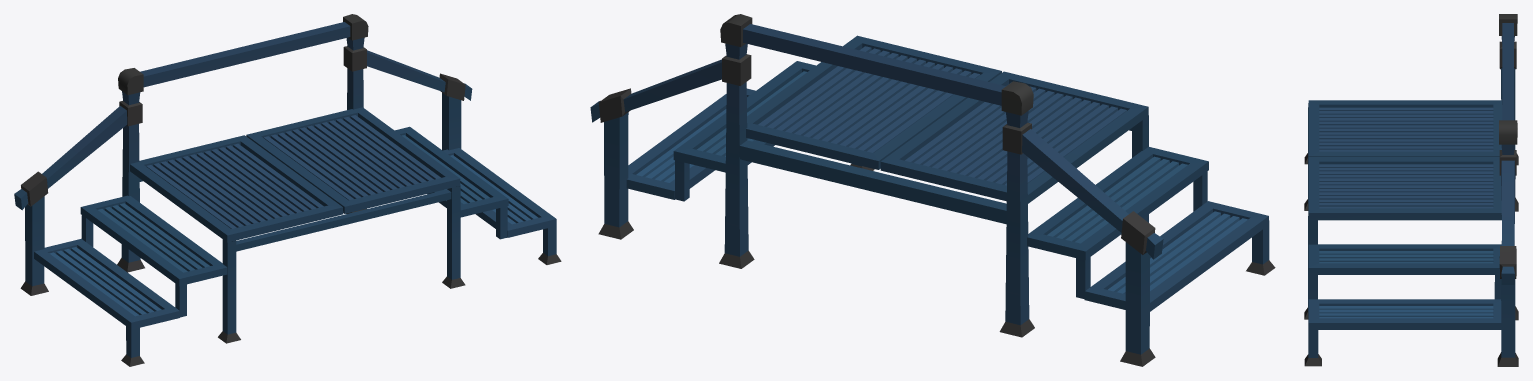
Rendered from Stairs_1_F.glb.
3 renders of one model, left to right at view 1: azimuth 30°, elevation 25°; view 2: azimuth 150°, elevation 25°; view 3: azimuth 270°, elevation 25°, orthographic. The views are drawn at different scales.
Parts seen in each view (by area): view 1: Stairs_1_F; view 2: Stairs_1_F; view 3: Stairs_1_F.
Part boxes in pixels (left/top/right/bottom): Stairs_1_F: left=14, top=14, right=561, bottom=366; Stairs_1_F: left=590, top=14, right=1275, bottom=366; Stairs_1_F: left=1304, top=14, right=1518, bottom=366.
Size of the model in its own units: 3.07 by 1.26 by 1.27.
Materials: 2 (2 with a texture image).
